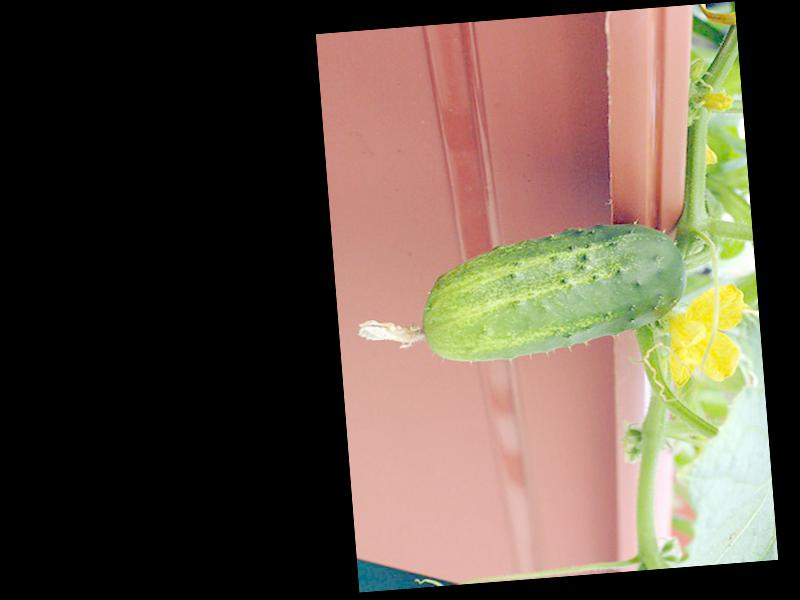Cucumber: (349, 219, 692, 372)
